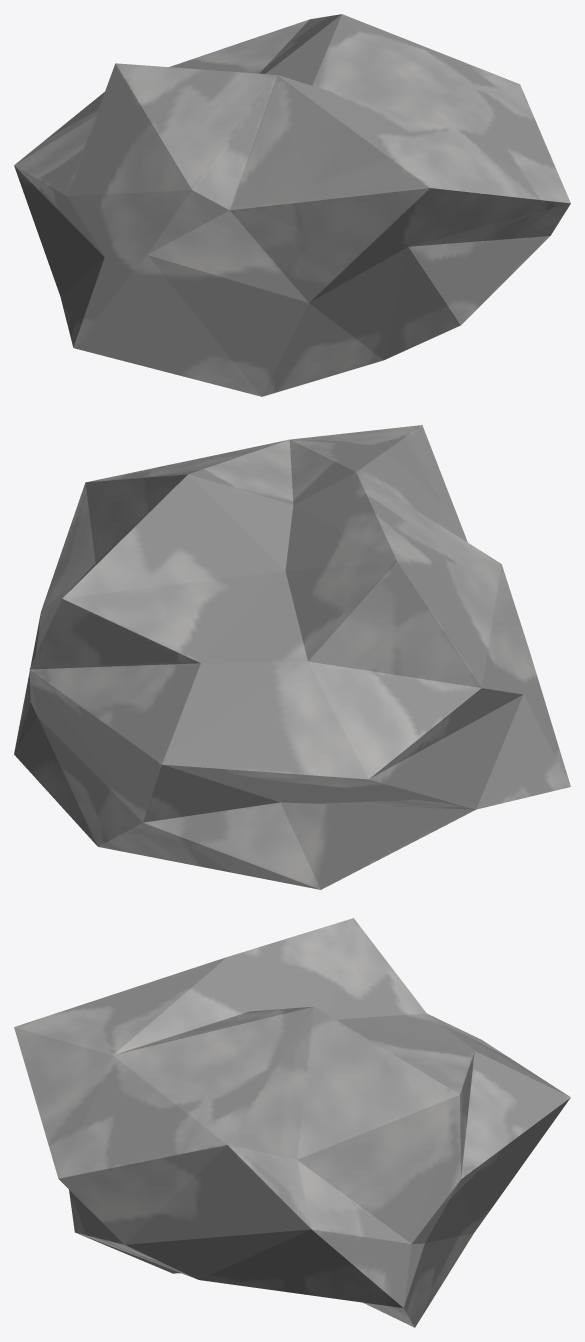
Rendered from stone.glb.
The picture shows the model from 3 angles, top to bottom: view 1: azimuth 30°, elevation 25°; view 2: azimuth 150°, elevation 25°; view 3: azimuth 270°, elevation 25°; orthographic projection. The views are drawn at different scales.
Parts seen in each view (by area): view 1: stone_1; view 2: stone_1; view 3: stone_1.
Boxes of the visible parts, x1,y1,x2,y2 form: stone_1: (14, 14, 570, 396); stone_1: (14, 425, 570, 889); stone_1: (14, 918, 570, 1327).
Size of the model in its own units: 0.3195 by 0.2107 by 0.3473.
1 material, 1 textured.
